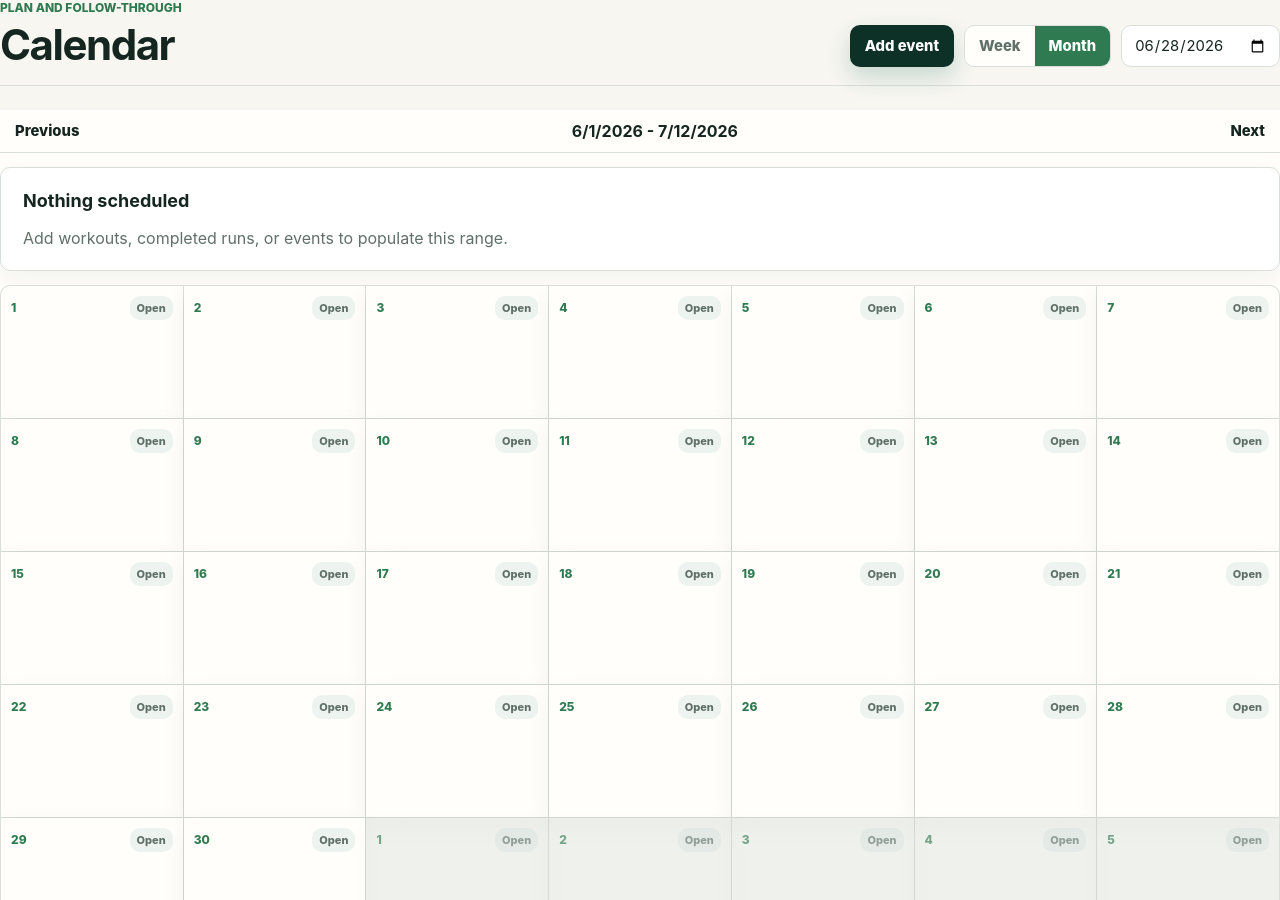
Test: CalendarPage › switches between week and month calendar grids
Click the button "Week" at (1000, 46), box [965,26,1035,66]
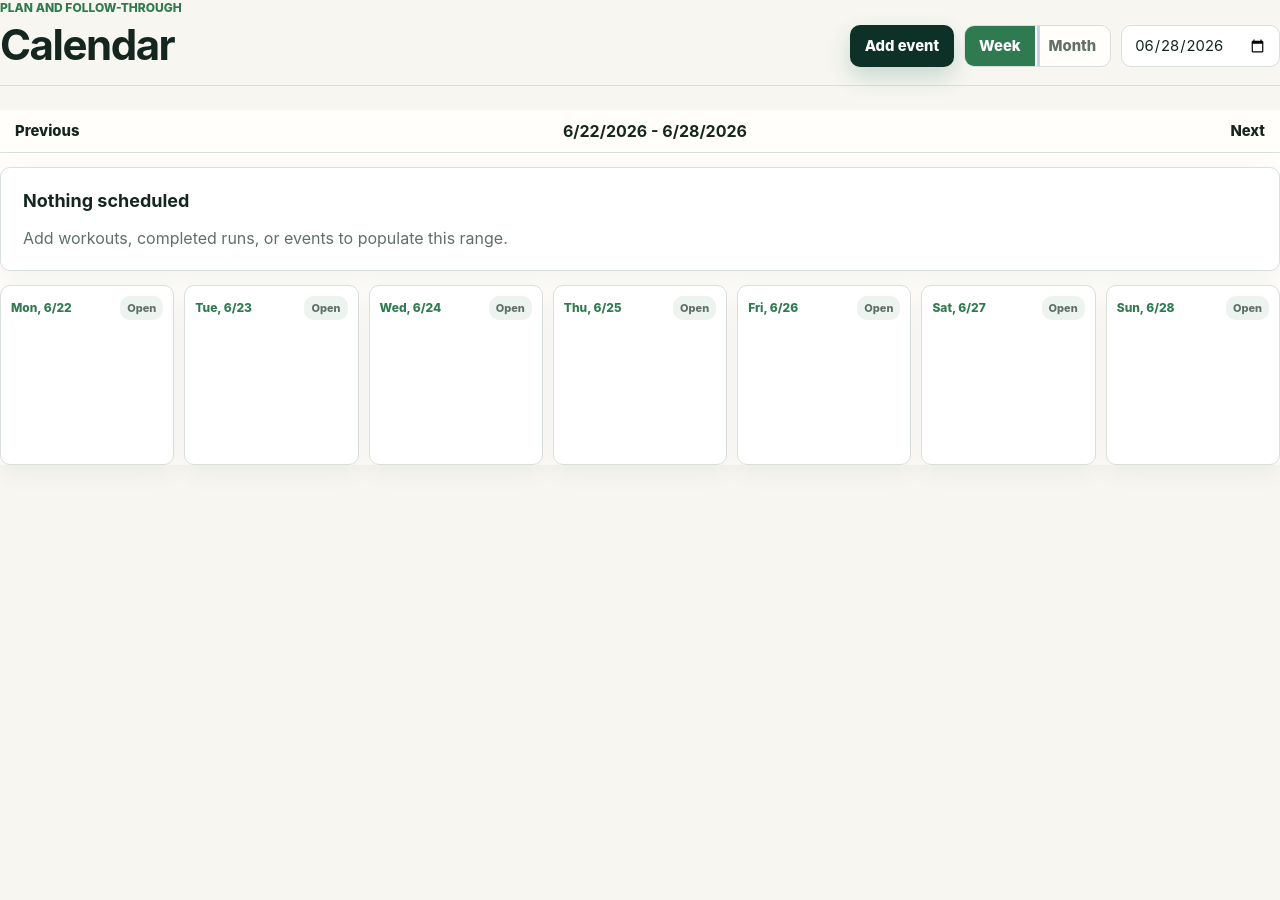
Check: the button "Month" is shown, box [1035,26,1110,66]
Check: the number of elements with test id "calendar-day" is 7
